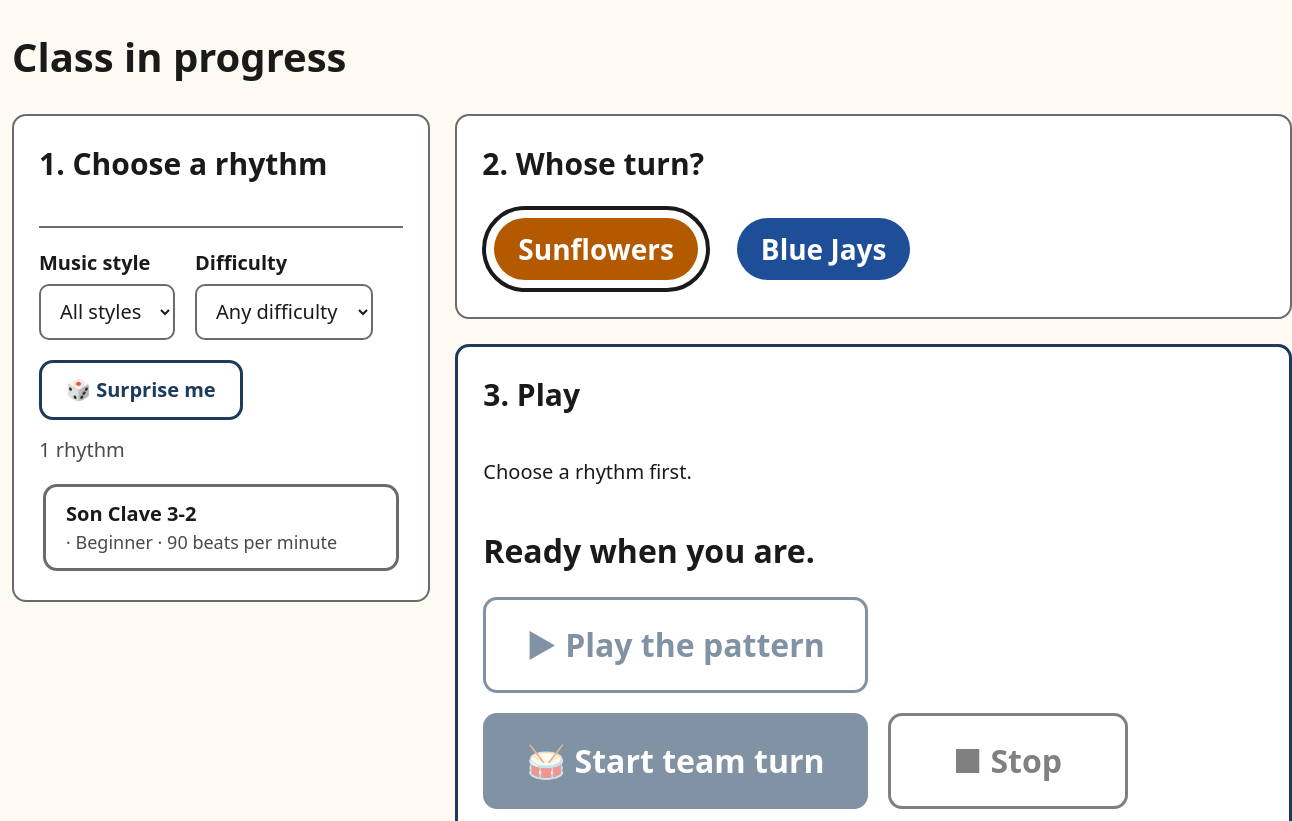
Test case: playing the pattern tells the TV (reference, beats, then idle)
This screenshot has width=1292, height=821.
Click the button "Son Clave 3-2 · Beginner · 90 beats per minute" at (221, 527), box x1=43 y1=484 x2=399 y2=571
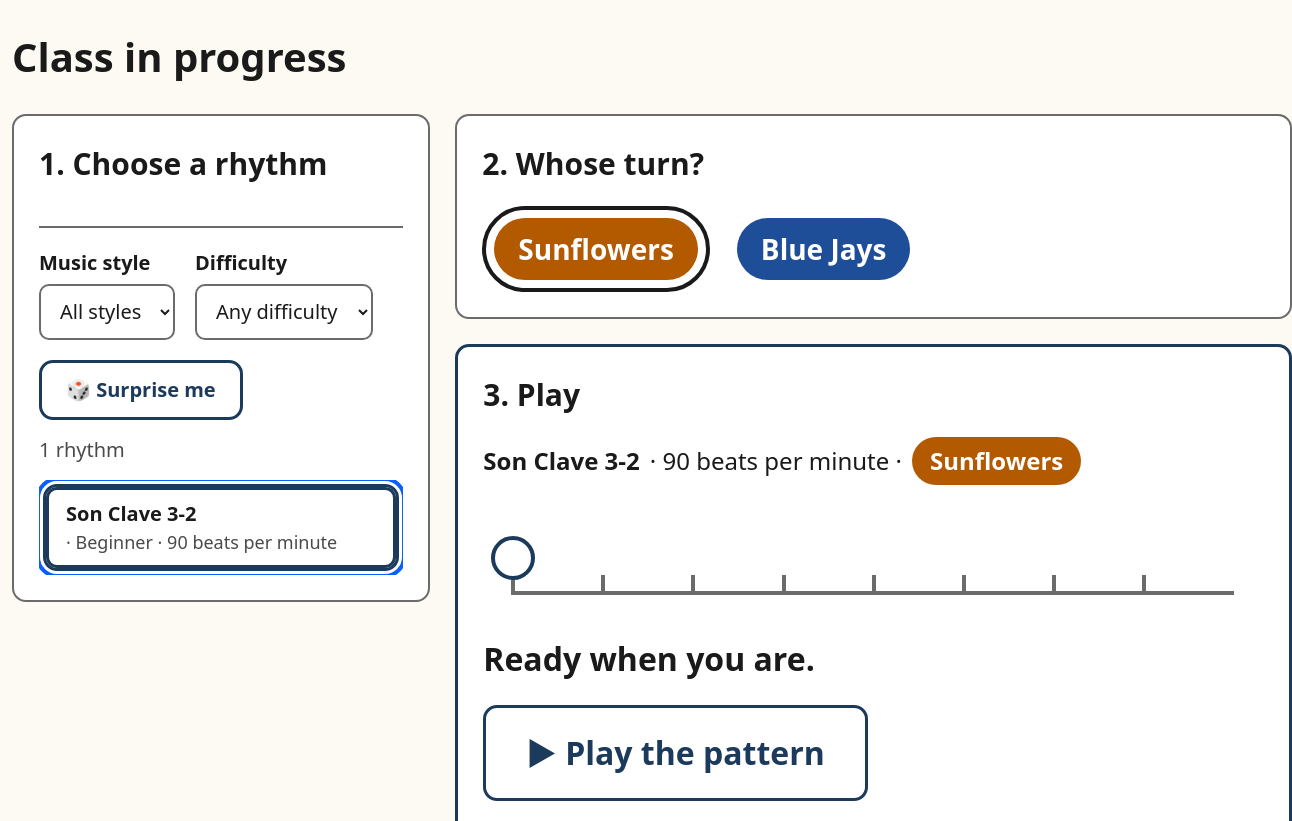
Click the button "▶ Play the pattern" at (676, 753), box x1=483 y1=705 x2=868 y2=801
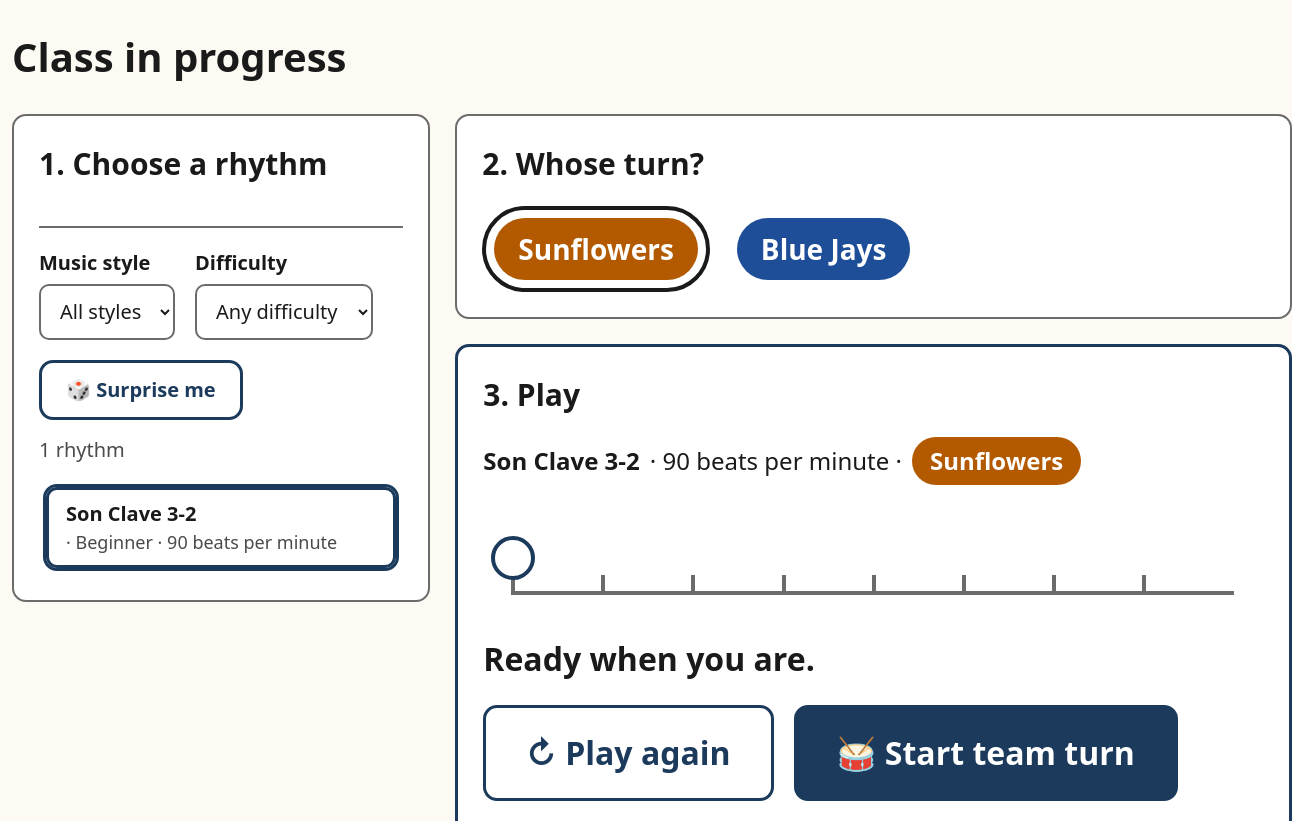
Result: the button "↻ Play again" is shown at x1=483 y1=705 x2=774 y2=801
